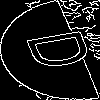D: (25, 25, 100, 72)
